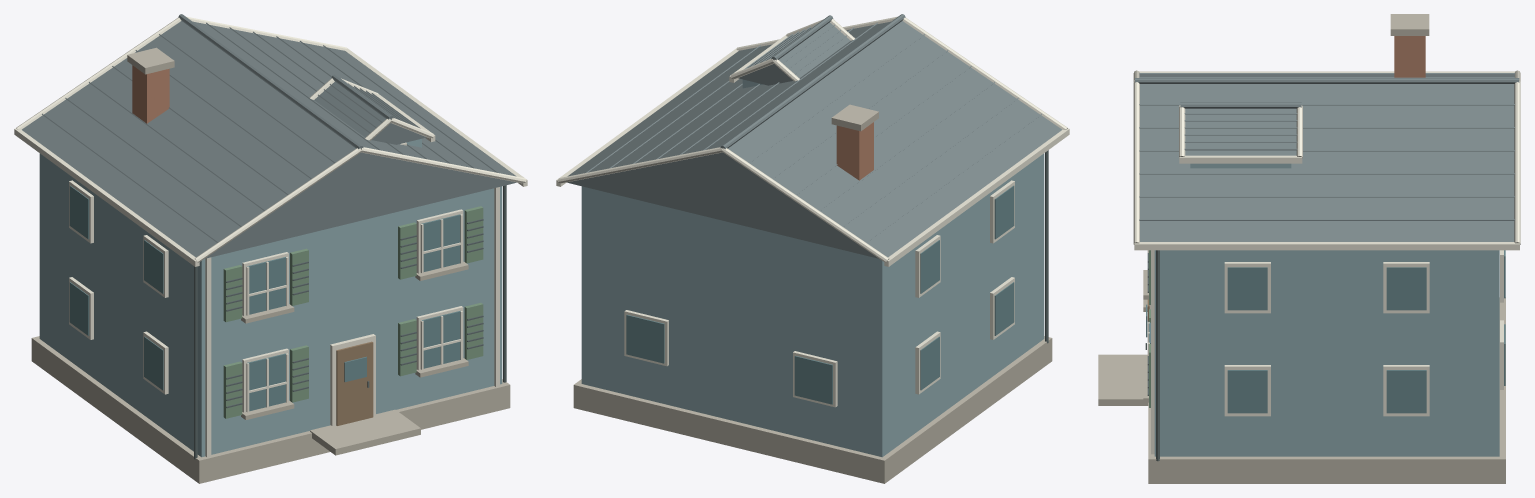
3 views of the same model, side by side, from view 1: azimuth 30°, elevation 25°; view 2: azimuth 150°, elevation 25°; view 3: azimuth 270°, elevation 25° (orthographic). The views are drawn at different scales.
Bounding box in the file's own units: 9.73 × 8.9 × 10.04.
